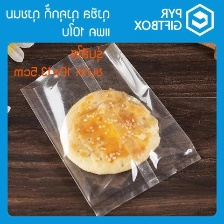snack: (14, 35, 207, 216)
